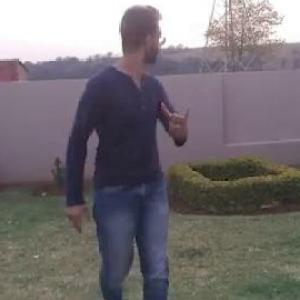takeoff-hand: (157, 93, 196, 147)
